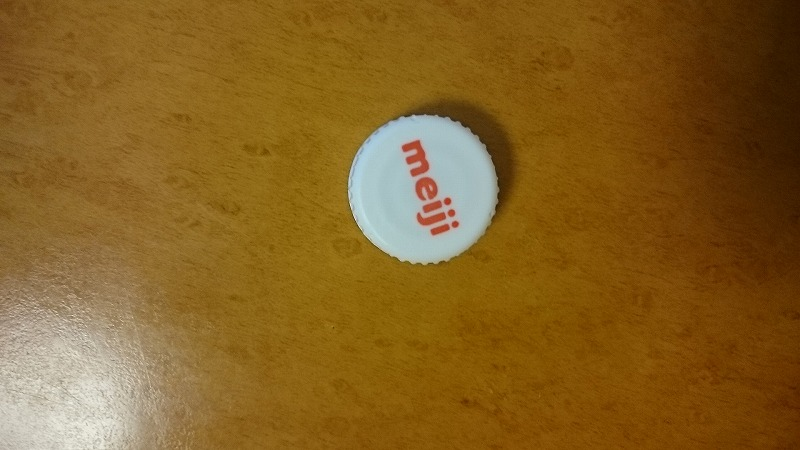B: (341, 107, 510, 271)
